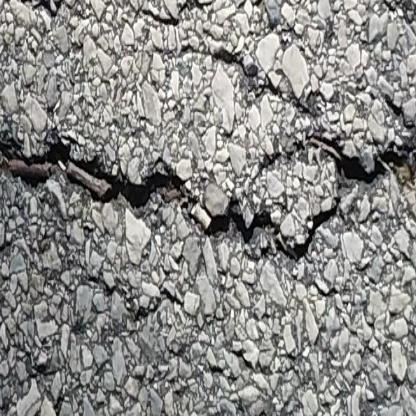Cracks: (0, 119, 416, 277), (165, 41, 326, 136), (0, 0, 96, 31), (135, 0, 213, 31)
